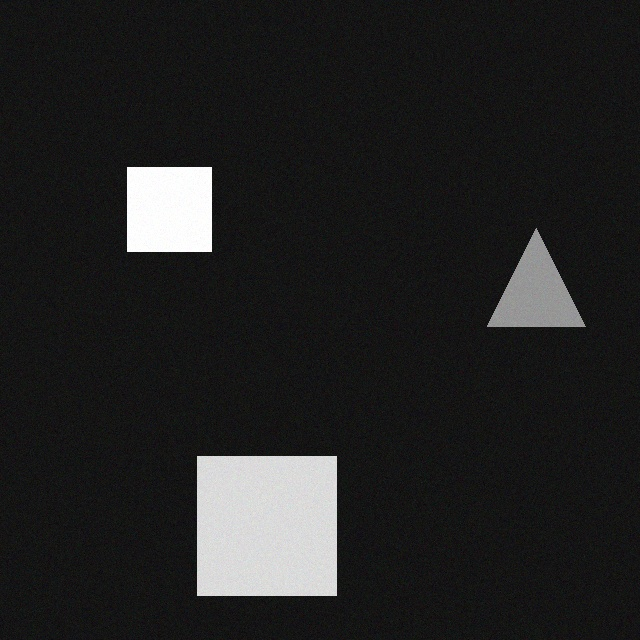square: (185, 441, 324, 580), (115, 152, 199, 236)
triangle: (475, 213, 573, 311)
